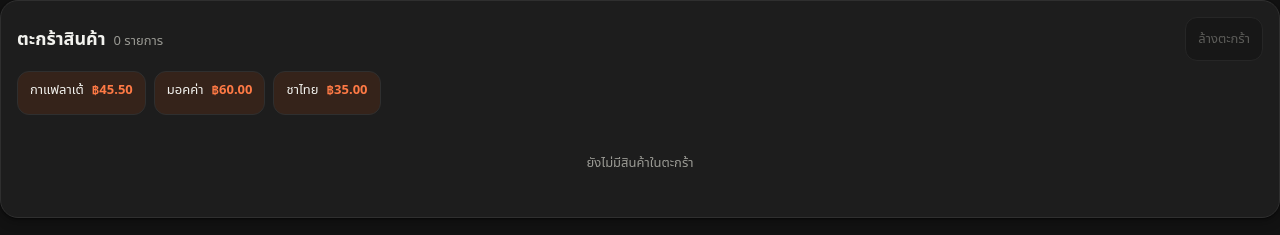
Test case: CartView — adding and incrementing › adds a line and shows its unit price and line total
The image size is (1280, 235).
Click the button "กาแฟลาเต้ ฿45.50" at coordinates (81, 93), box [17,71,146,115]
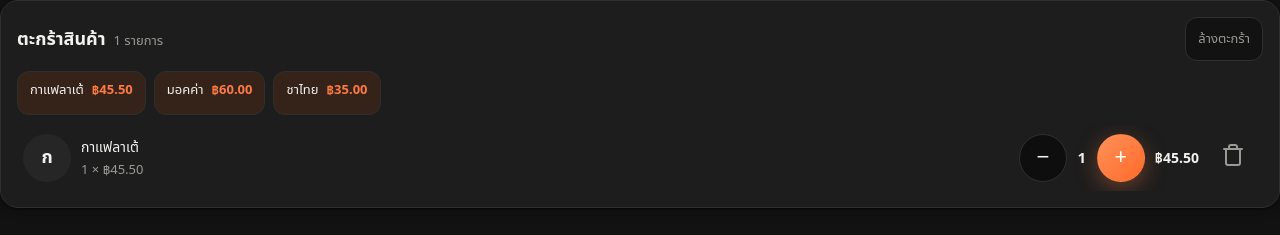
Now the text with test id "cart-item-count" reads "1 รายการ", box [114,30,163,50]
